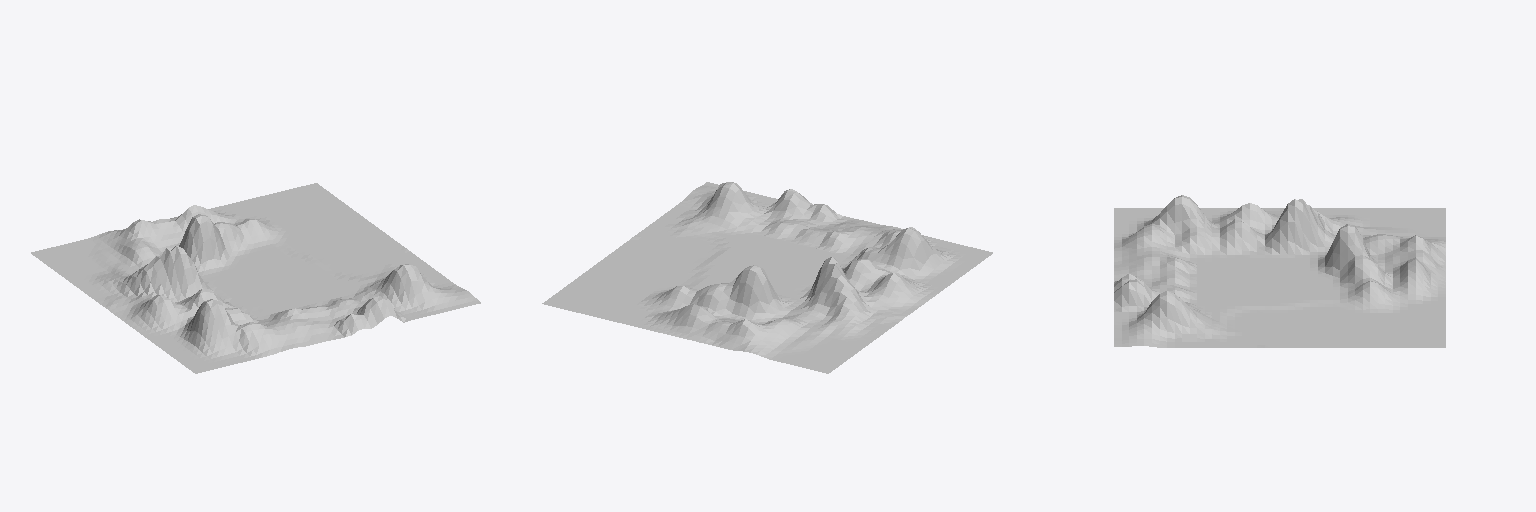
Rendered from mountains.obj.
3 renders of one model, left to right at view 1: azimuth 30°, elevation 25°; view 2: azimuth 150°, elevation 25°; view 3: azimuth 270°, elevation 25°, orthographic.
Parts seen in each view (by area): view 1: MM_Terrain; view 2: MM_Terrain; view 3: MM_Terrain.
Boxes of the visible parts, box(x1,y1,x2,y2) form: MM_Terrain: box(31, 183, 480, 373); MM_Terrain: box(542, 182, 992, 373); MM_Terrain: box(1114, 195, 1445, 347).
Size of the model in its own units: 1000 by 149 by 1000.